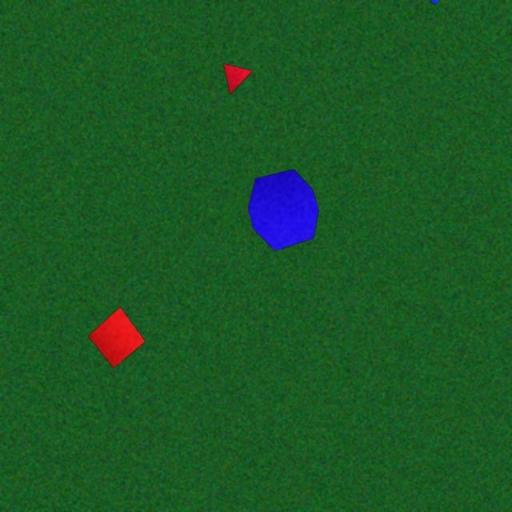RED_SQUARE: (88, 306, 146, 368)
